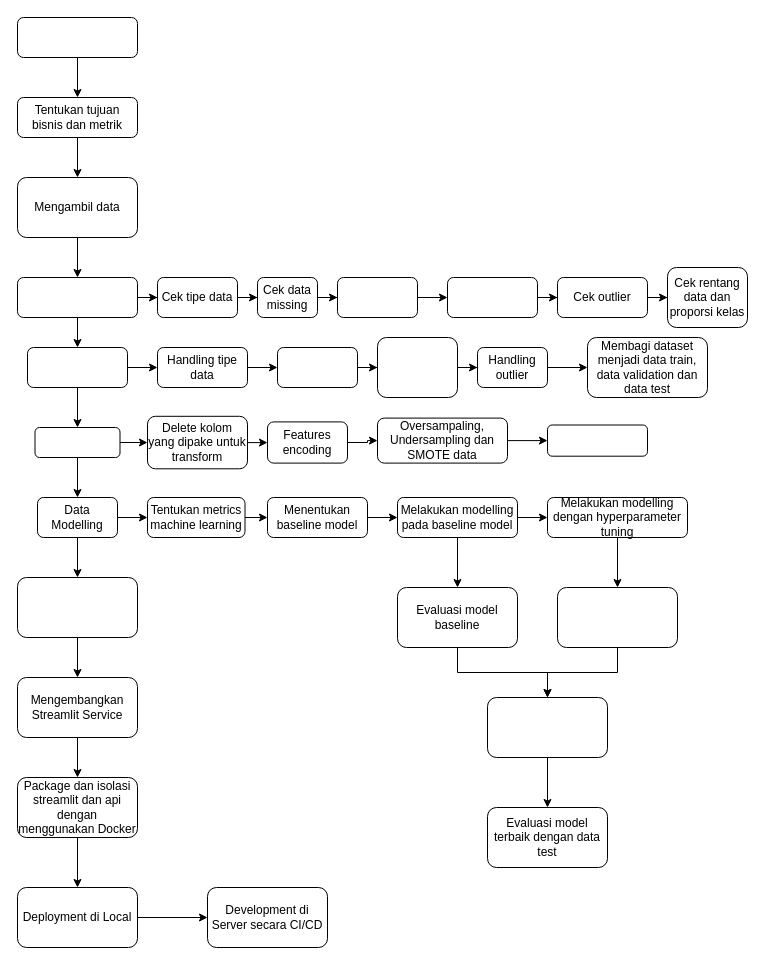
The diagram is 765 pixels wide and 965 high, and some of its shapes have lost their labels. The centre of each missing label's shape, as x and y in pixels:
"Cek absence of predictiors" belongs at pixel 377 297.
"Cek Skewness data" belongs at pixel 492 297.
"Data Pipeline" belongs at pixel 77 367.
"Data Preprocessing" belongs at pixel 77 442.
"Definisi Masalah" belongs at pixel 77 37.
"Evaluasi model dengan K-fold cross-validation" belongs at pixel 617 617.
"Exploratory Data Analysis" belongs at pixel 77 297.
"Handling data labelling" belongs at pixel 317 367.
"Handling skewed data with log transfrmastion" belongs at pixel 417 367.
"Label Encoding" belongs at pixel 597 440.
"Mengembangkan API Service" belongs at pixel 77 607.
"Tentukan Model terbaik" belongs at pixel 547 727.
